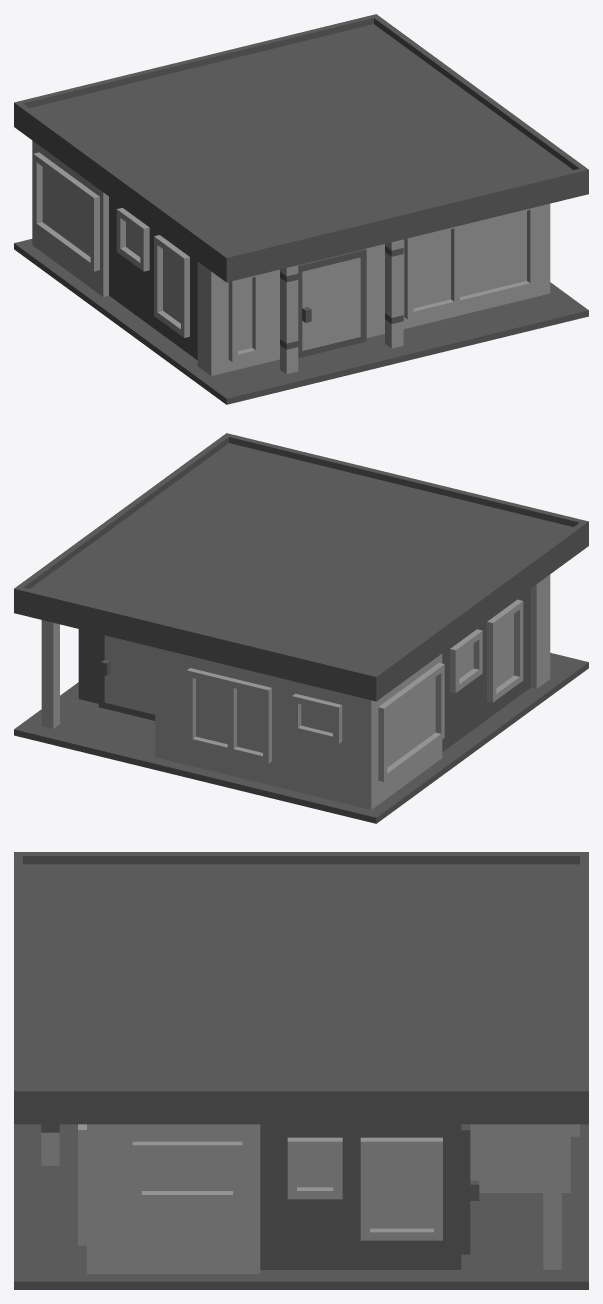
File: bld_house1.obj
3 views of the same model, one above another, from view 1: azimuth 30°, elevation 25°; view 2: azimuth 150°, elevation 25°; view 3: azimuth 270°, elevation 25° (orthographic). The views are drawn at different scales.
Size of the model in its own units: 62 by 24 by 63.
